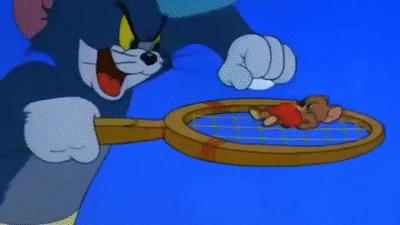jerry: (248, 95, 343, 131)
